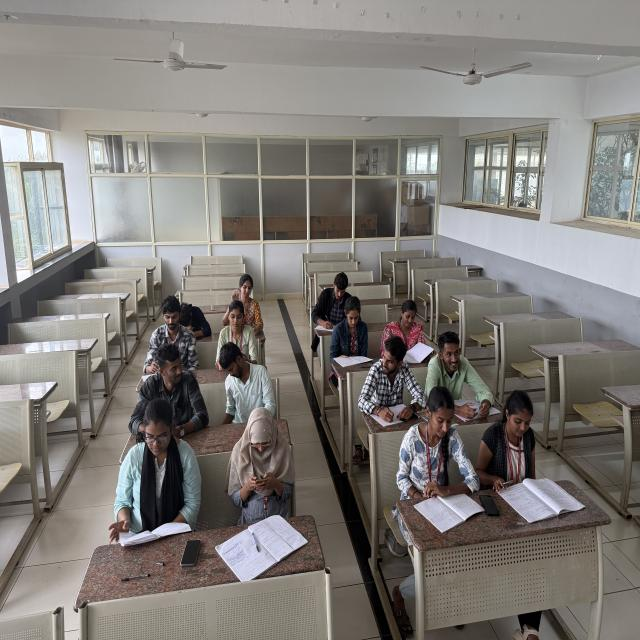Reading: (105, 393, 208, 538), (406, 391, 478, 520), (330, 278, 376, 377), (392, 279, 441, 368)
Using Phone: (217, 394, 312, 510)
Writing: (484, 380, 544, 490), (120, 300, 201, 380), (360, 332, 422, 425), (309, 265, 363, 336)
